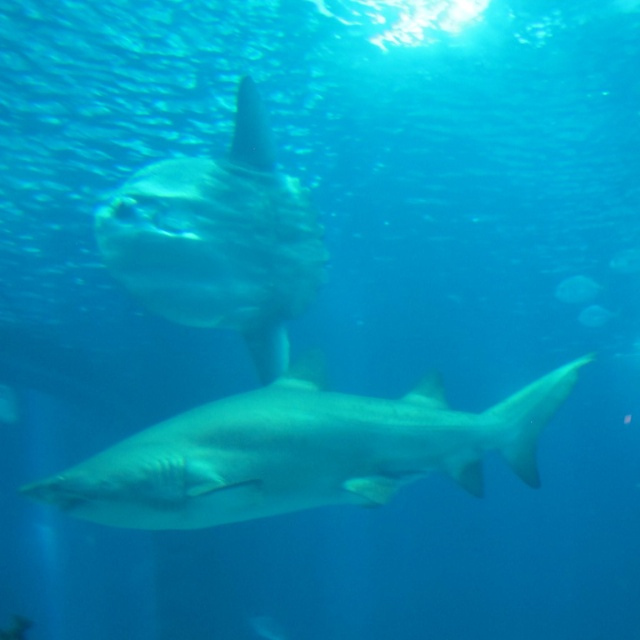Shark: (18, 346, 594, 529)
